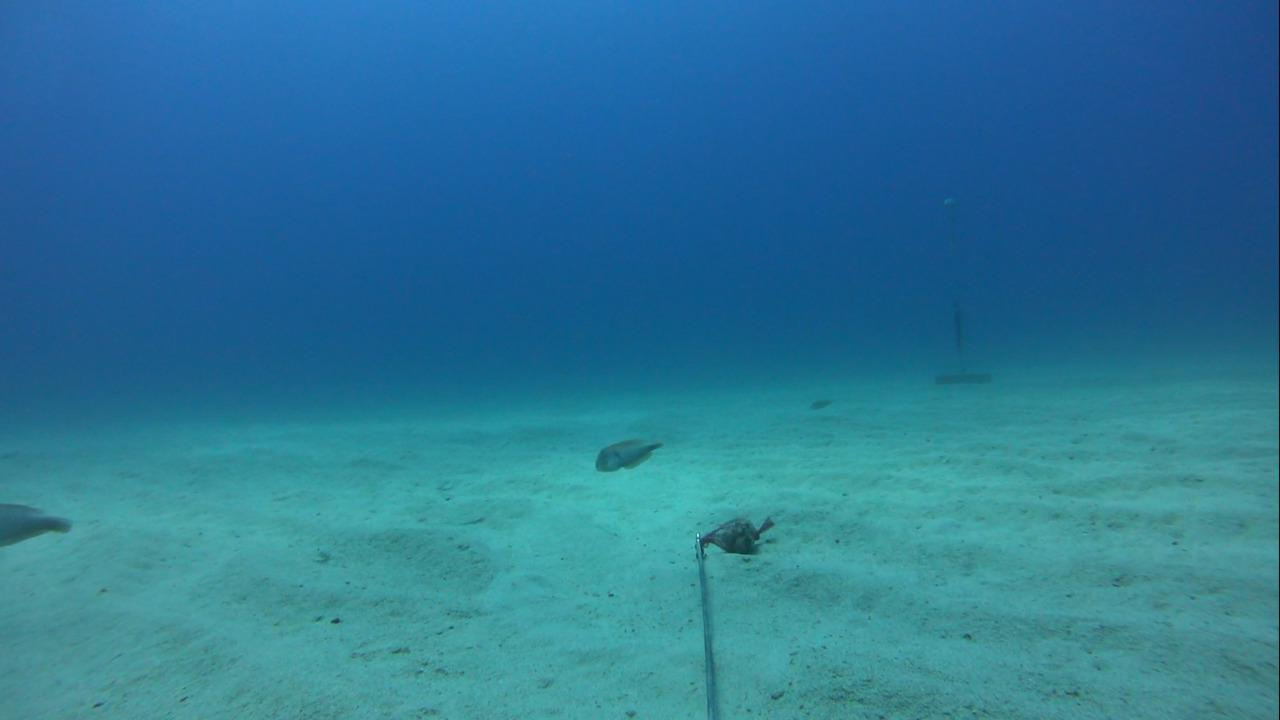raor: (581, 430, 672, 477)
